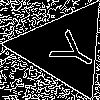Y: (39, 23, 100, 76)
